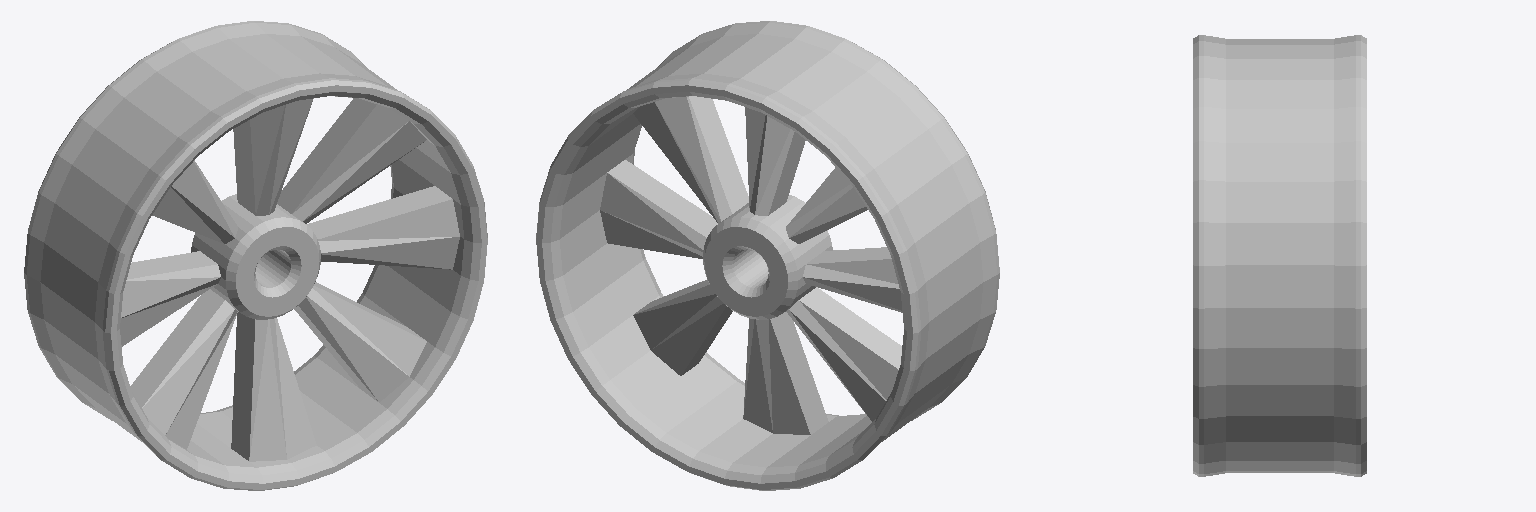
File: Rim.obj
The picture shows the model from 3 angles: view 1: azimuth 30°, elevation 25°; view 2: azimuth 150°, elevation 25°; view 3: azimuth 270°, elevation 25°; orthographic projection.
Parts seen in each view (by area): view 1: g0; view 2: g0; view 3: g0.
Part boxes in pixels (left/top/right/bottom): g0: left=24, top=21, right=487, bottom=490; g0: left=536, top=21, right=999, bottom=490; g0: left=1193, top=35, right=1366, bottom=476.
Size of the model in its own units: 1.96 by 1.96 by 0.7692.